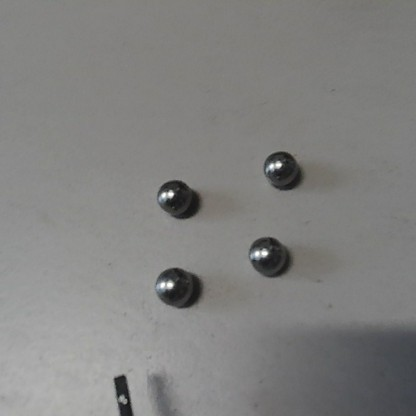ironball: (248, 236, 286, 279), (153, 265, 192, 306), (156, 179, 192, 213), (263, 148, 295, 186)
